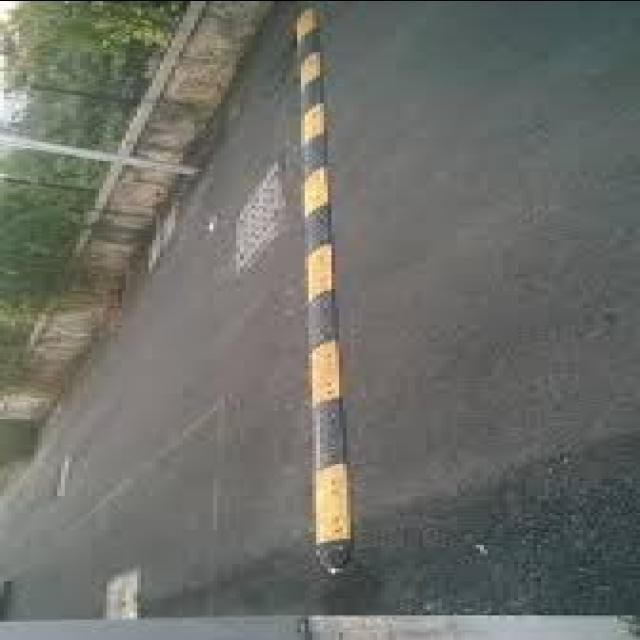speedbreaker: (279, 0, 365, 578)
